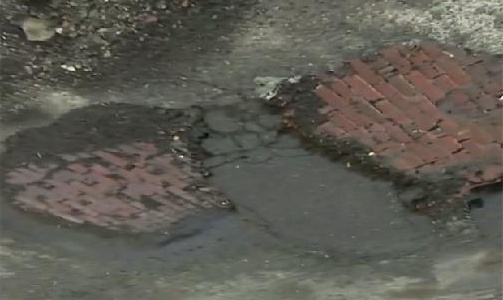pothole: (253, 43, 502, 222), (0, 102, 240, 244)
